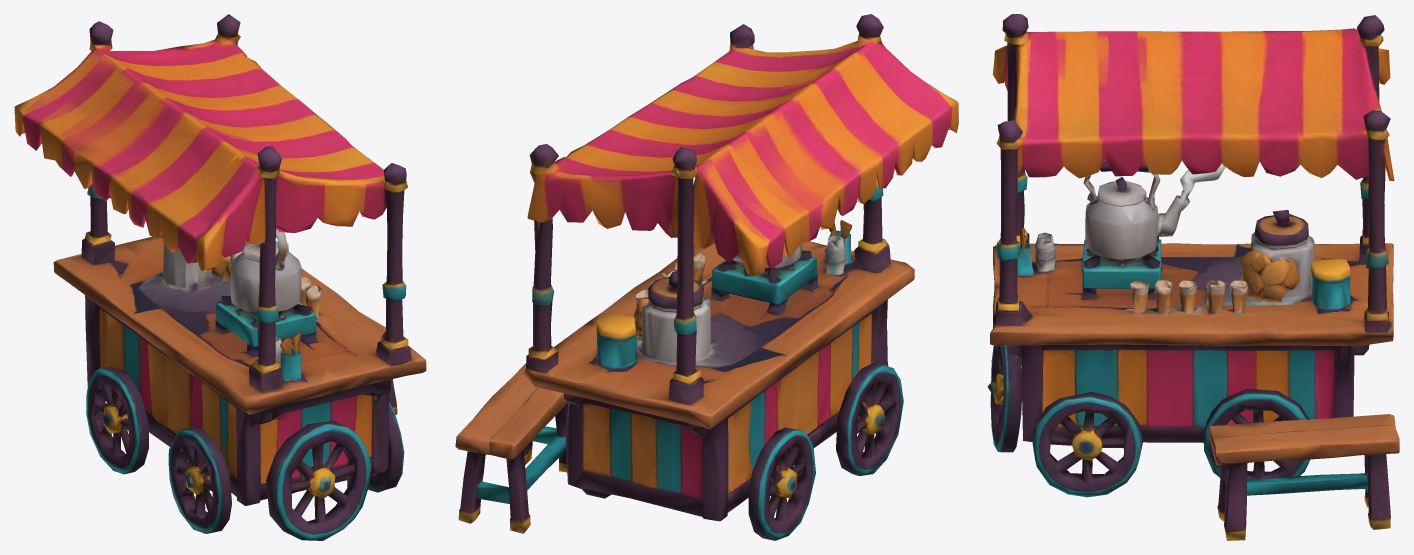
Rendered from street-chai-stall.glb.
3 views of the same model, side by side, from view 1: azimuth 30°, elevation 25°; view 2: azimuth 150°, elevation 25°; view 3: azimuth 270°, elevation 25° (orthographic). The views are drawn at different scales.
Visible parts, largest first — view 1: tripo_node_b2a217e0-f9c9-417e-b1b2-4222de37b148; view 2: tripo_node_b2a217e0-f9c9-417e-b1b2-4222de37b148; view 3: tripo_node_b2a217e0-f9c9-417e-b1b2-4222de37b148.
Part boxes in pixels (left/top/right/bottom): tripo_node_b2a217e0-f9c9-417e-b1b2-4222de37b148: left=14, top=14, right=426, bottom=540; tripo_node_b2a217e0-f9c9-417e-b1b2-4222de37b148: left=455, top=14, right=958, bottom=540; tripo_node_b2a217e0-f9c9-417e-b1b2-4222de37b148: left=987, top=14, right=1399, bottom=540.
Size of the model in its own units: 0.8033 by 1 by 0.9075.
Materials: 1 (1 with a texture image).
